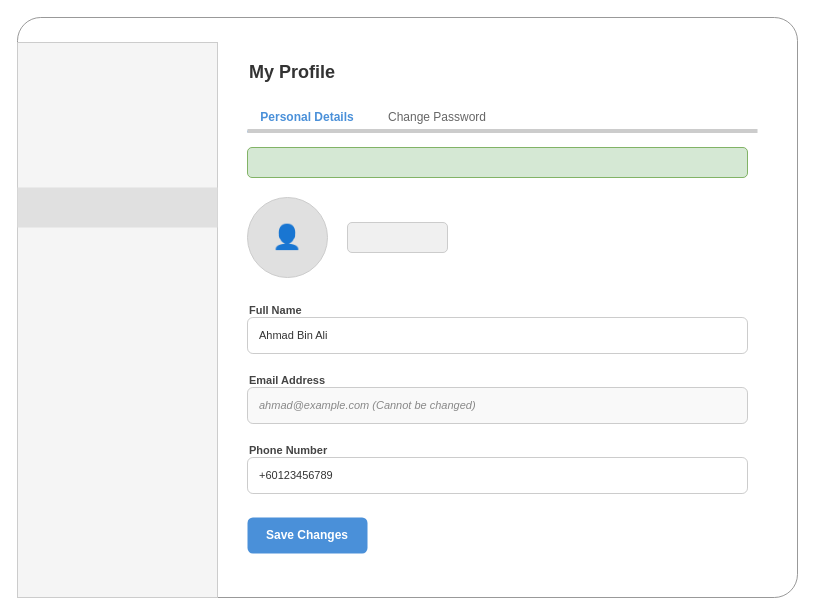
The diagram is 815 pixels wide and 615 high, and some of its shapes have lost their labels. The centre of each missing label's shape, as x and y in pixels:
"Change Photo" goes at point (397, 237).
"Profile" goes at point (117, 207).
"Profile updated successfully." goes at point (497, 162).
